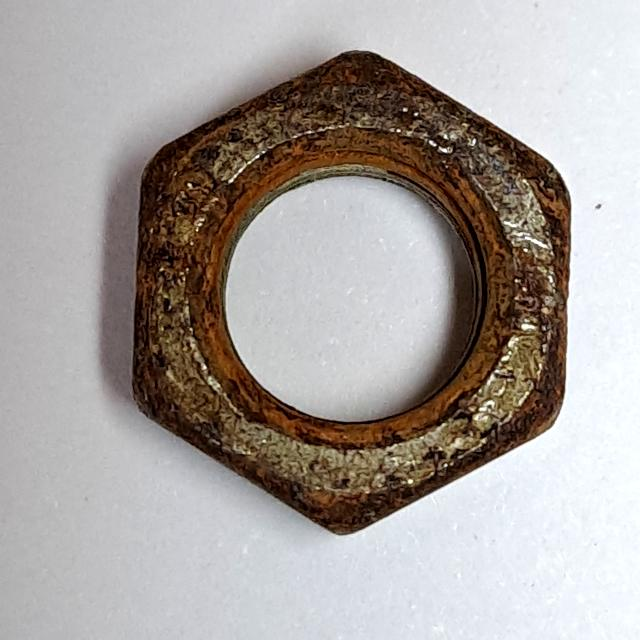Rust: (124, 40, 581, 548)
